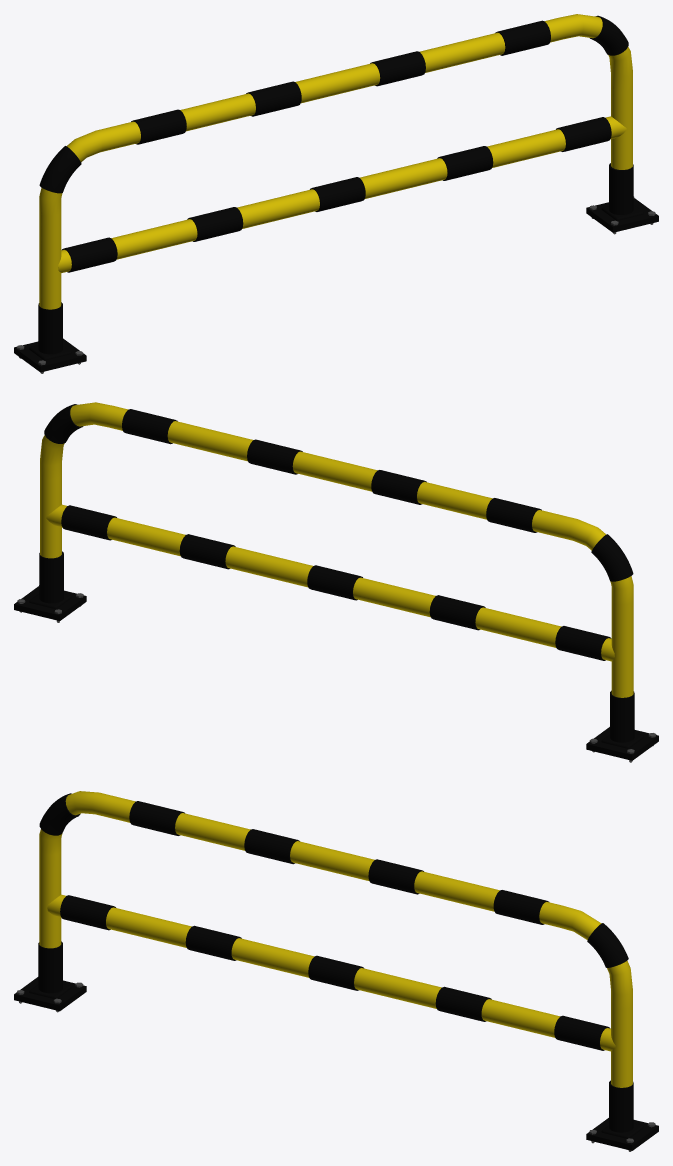
The model's file is Ограда.fbx.
3 views of the same model, one above another, from view 1: azimuth 30°, elevation 25°; view 2: azimuth 150°, elevation 25°; view 3: azimuth 330°, elevation 25° (orthographic).
Visible parts, largest first — view 1: Cylinder, Cylinder_1, Cylinder_2, Cylinder_2_2, Cylinder_1_2, Cylinder_9, Cylinder_5, Cylinder_4, Cylinder_14, Cylinder_3, Cylinder_6, Cylinder_10 (+5 smaller); view 2: Cylinder, Cylinder_1, Cylinder_2_2, Cylinder_2, Cylinder_1_2, Cylinder_9, Cylinder_6, Cylinder_5, Cylinder_4, Cylinder_3, Cylinder_14, Cylinder_13 (+5 smaller); view 3: Cylinder, Cylinder_1, Cylinder_1_2, Cylinder_2, Cylinder_6, Cylinder_9, Cylinder_5, Cylinder_3, Cylinder_4, Cylinder_14, Cylinder_2_2, Cylinder_10 (+5 smaller).
Boxes of the visible parts, x1,y1,x2,y2 form: Cylinder: [39, 14, 632, 309]; Cylinder_1: [58, 116, 626, 272]; Cylinder_2: [556, 117, 611, 151]; Cylinder_2_2: [62, 237, 117, 272]; Cylinder_1_2: [310, 177, 365, 211]; Cylinder_9: [246, 81, 301, 116]; Cylinder_5: [131, 109, 186, 144]; Cylinder_4: [187, 207, 243, 241]; Cylinder_14: [495, 20, 550, 55]; Cylinder_3: [437, 146, 493, 180]; Cylinder_6: [370, 51, 425, 86]; Cylinder_10: [38, 302, 62, 354]; Cylinder: [40, 402, 633, 697]; Cylinder_1: [46, 504, 614, 661]; Cylinder_2_2: [555, 626, 611, 660]; Cylinder_2: [61, 505, 116, 540]; Cylinder_1_2: [307, 565, 362, 600]; Cylinder_9: [371, 470, 426, 504]; Cylinder_6: [247, 439, 302, 474]; Cylinder_5: [486, 498, 541, 532]; Cylinder_4: [429, 595, 485, 630]; Cylinder_3: [179, 534, 235, 569]; Cylinder_14: [122, 409, 177, 444]; Cylinder_13: [39, 551, 63, 603]; Cylinder: [39, 791, 632, 1087]; Cylinder_1: [47, 894, 615, 1051]; Cylinder_1_2: [308, 955, 364, 990]; Cylinder_2: [554, 1015, 610, 1050]; Cylinder_6: [368, 859, 423, 894]; Cylinder_9: [244, 829, 299, 864]; Cylinder_5: [129, 801, 184, 835]; Cylinder_3: [435, 986, 491, 1021]; Cylinder_4: [185, 925, 241, 960]; Cylinder_14: [493, 890, 548, 924]; Cylinder_2_2: [60, 895, 115, 930]; Cylinder_10: [38, 941, 62, 993].
Bounding box in the file's own units: 178 × 60.4 × 13.26.
